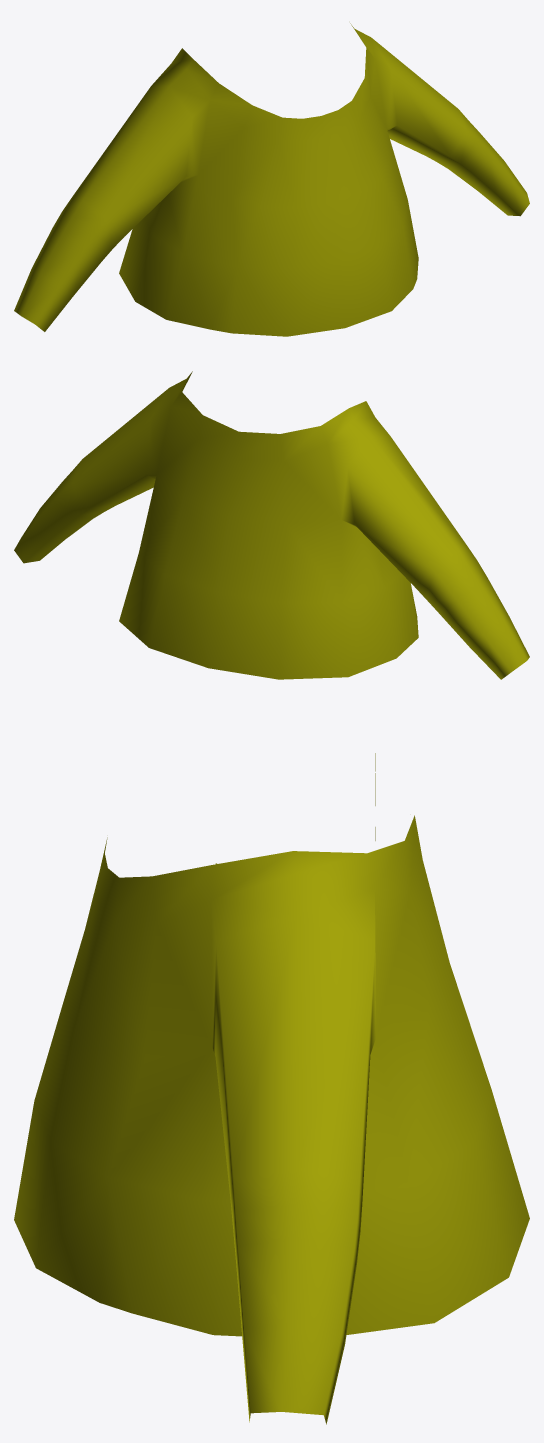
The model's file is torso_376.glb.
3 renders of one model, top to bottom at view 1: azimuth 30°, elevation 25°; view 2: azimuth 150°, elevation 25°; view 3: azimuth 270°, elevation 25°, orthographic. The views are drawn at different scales.
Parts seen in each view (by area): view 1: torso; view 2: torso; view 3: torso.
Boxes of the visible parts, <box> form: torso: <box>14,23,529,336</box>; torso: <box>14,371,529,679</box>; torso: <box>14,753,529,1424</box>.
Size of the model in its own units: 0.7628 by 0.3369 by 0.3577.
